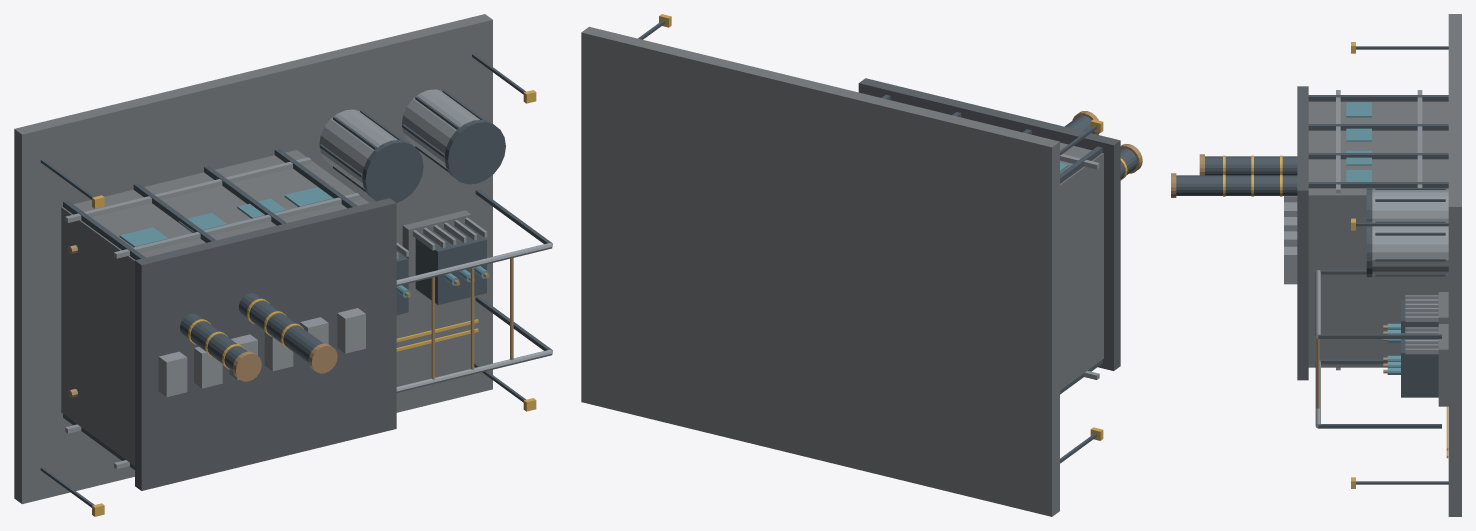
The model's file is powerquest_station.glb.
The picture shows the model from 3 angles, left to right: view 1: azimuth 30°, elevation 25°; view 2: azimuth 150°, elevation 25°; view 3: azimuth 270°, elevation 25°; orthographic projection. The views are drawn at different scales.
Visible parts, largest first — view 1: Foundation, Roof, Turbine hall, Transformer tank 9, Cooling rim 8.7, Cooling rim 4.5, Cooling tank 8.7, Cooling tank 4.5, Stack 1, Frame 2.2 5.13, Frame 6.5 5.13, Stack 0 (+13 smaller); view 2: Foundation, Turbine hall, Roof; view 3: Turbine hall, Foundation, Roof, Cooling tank 8.7, Stack 1, Cooling tank 4.5, Transformer tank 9, Stack 0, Column -9.8 5.1, Column -6.2 5.1, Column -2.6 5.1, Transformer base 9 (+16 smaller).
Part boxes in pixels (<box>): Foundation: <box>14,14,492,504</box>; Roof: <box>135,198,396,490</box>; Turbine hall: <box>61,150,368,465</box>; Transformer tank 9: <box>415,223,486,304</box>; Cooling rim 8.7: <box>444,120,505,184</box>; Cooling rim 4.5: <box>362,140,423,202</box>; Cooling tank 8.7: <box>402,89,480,168</box>; Cooling tank 4.5: <box>319,109,397,188</box>; Stack 1: <box>238,293,323,362</box>; Frame 2.2 5.13: <box>65,157,311,222</box>; Frame 6.5 5.13: <box>114,193,359,258</box>; Stack 0: <box>180,313,247,371</box>; Foundation: <box>581,26,1059,516</box>; Turbine hall: <box>1060,142,1103,390</box>; Roof: <box>858,78,1120,370</box>; Turbine hall: <box>1308,101,1448,367</box>; Foundation: <box>1448,14,1461,516</box>; Roof: <box>1297,86,1308,380</box>; Cooling tank 8.7: <box>1372,226,1448,274</box>; Stack 1: <box>1176,175,1297,195</box>; Cooling tank 4.5: <box>1372,190,1448,222</box>; Transformer tank 9: <box>1401,333,1438,397</box>; Stack 0: <box>1205,156,1297,175</box>; Column -9.8 5.1: <box>1308,95,1448,101</box>; Column -6.2 5.1: <box>1308,124,1448,130</box>; Column -2.6 5.1: <box>1308,153,1448,159</box>; Transformer base 9: <box>1438,324,1448,406</box>.
Bounding box in the file's own units: 24 × 18 × 15.29.
